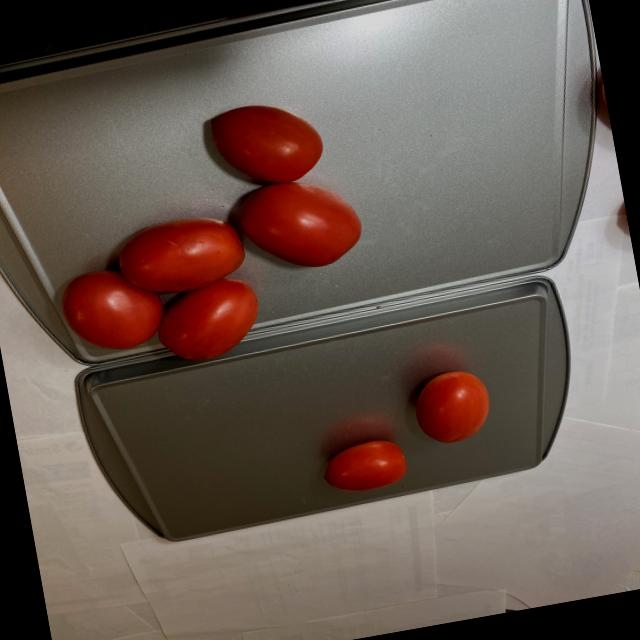tomato: (28, 86, 378, 380), (304, 358, 499, 498)
